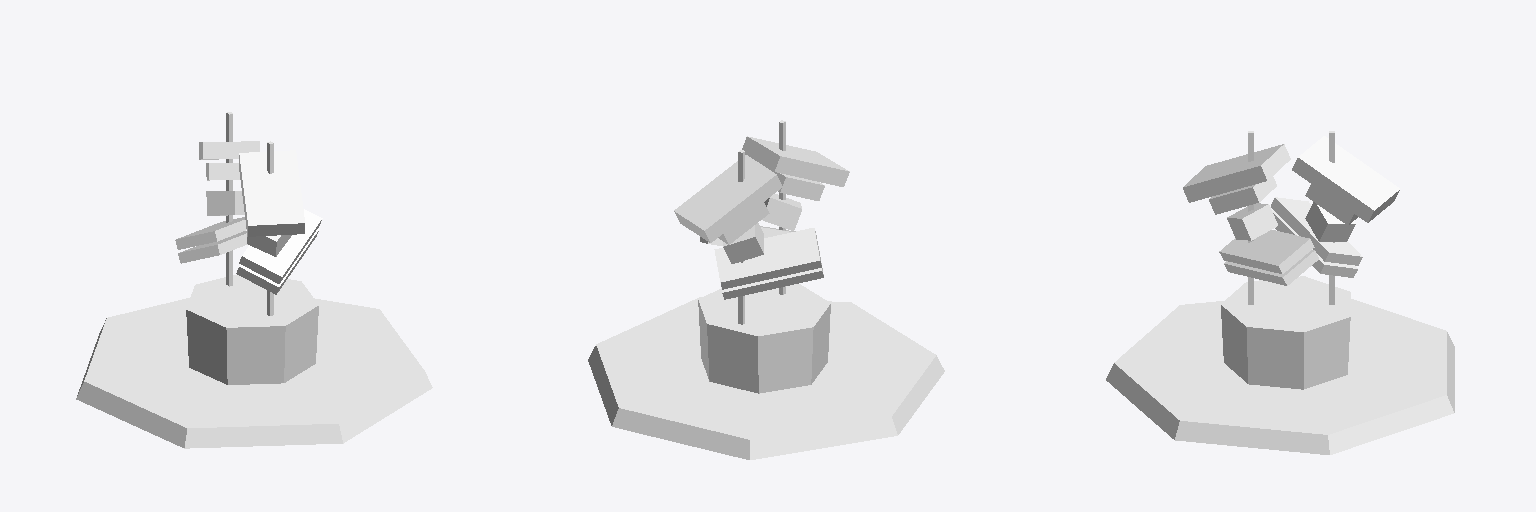
The model's file is rzezba.obj.
3 views of the same model, side by side, from view 1: azimuth 30°, elevation 25°; view 2: azimuth 150°, elevation 25°; view 3: azimuth 270°, elevation 25° (orthographic).
Visible parts, largest first — view 1: rzezba; view 2: rzezba; view 3: rzezba.
Boxes of the visible parts, box(x1,y1,x2,y2) form: rzezba: box(76, 112, 432, 448); rzezba: box(588, 120, 944, 459); rzezba: box(1106, 131, 1454, 454).
Bounding box in the file's own units: 281 × 214 × 274.